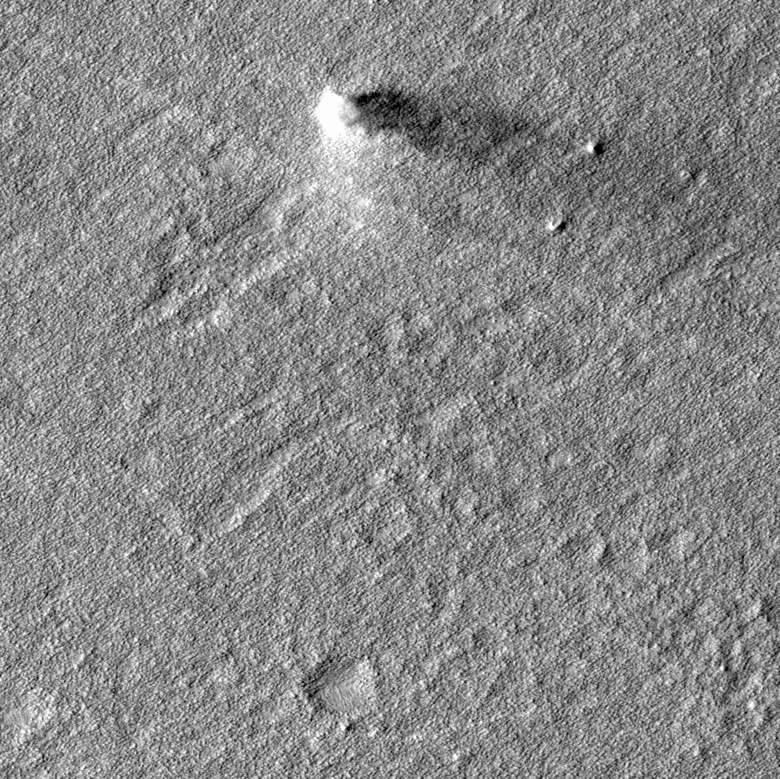dust_devil: (309, 81, 547, 179)
